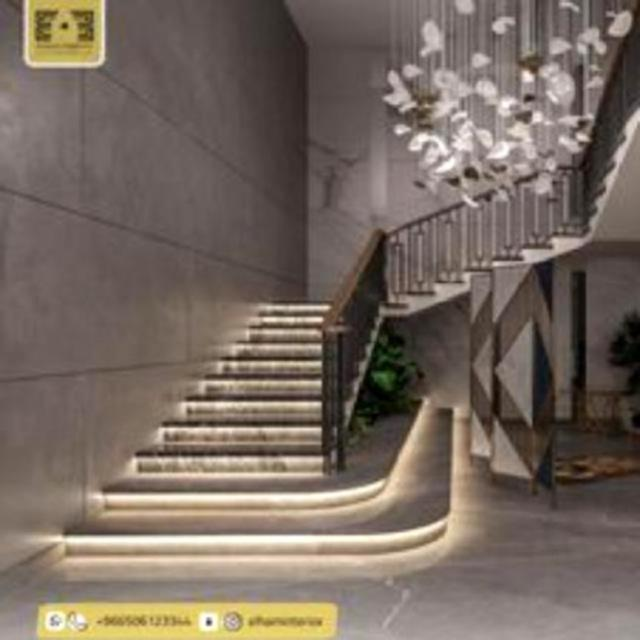stair: (114, 254, 420, 490)
